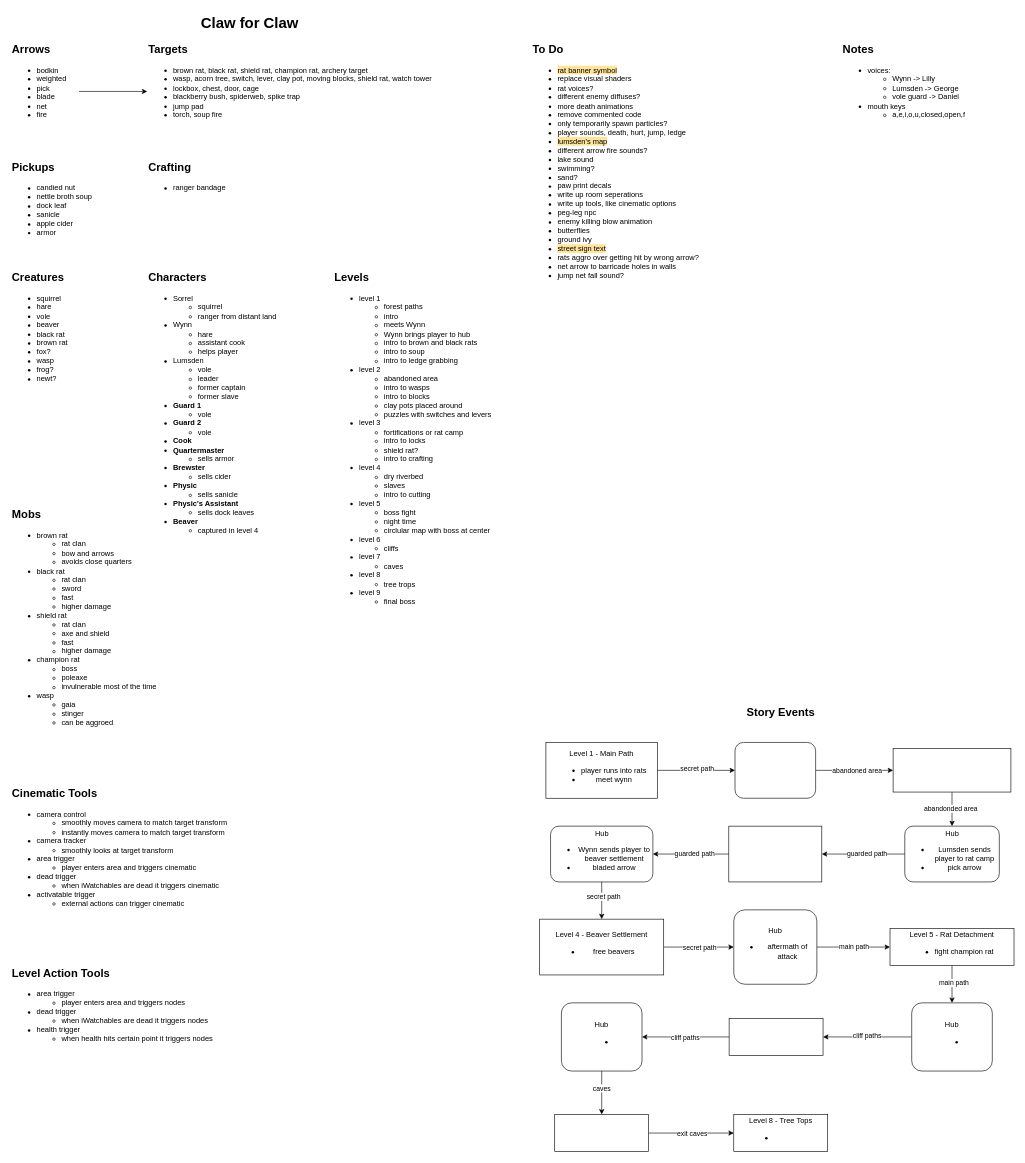
The diagram is 1025 pixels wide and 1163 high, and some of its shapes have lost their labels. Here are the shapes that lost their labels. From the top down, the centre of each, then its label:
the point at 775,770: Hub meet Lumsden weighted arrow
the point at 951,770: Level 2 - Abandonded Area seal off rats
the point at 775,854: Level 3 - Rat Camp destroy 3 watch towers
the point at 775,1037: Level 6 - Cliffs grab fire arrow
the point at 601,1133: Level 7 - Caves
